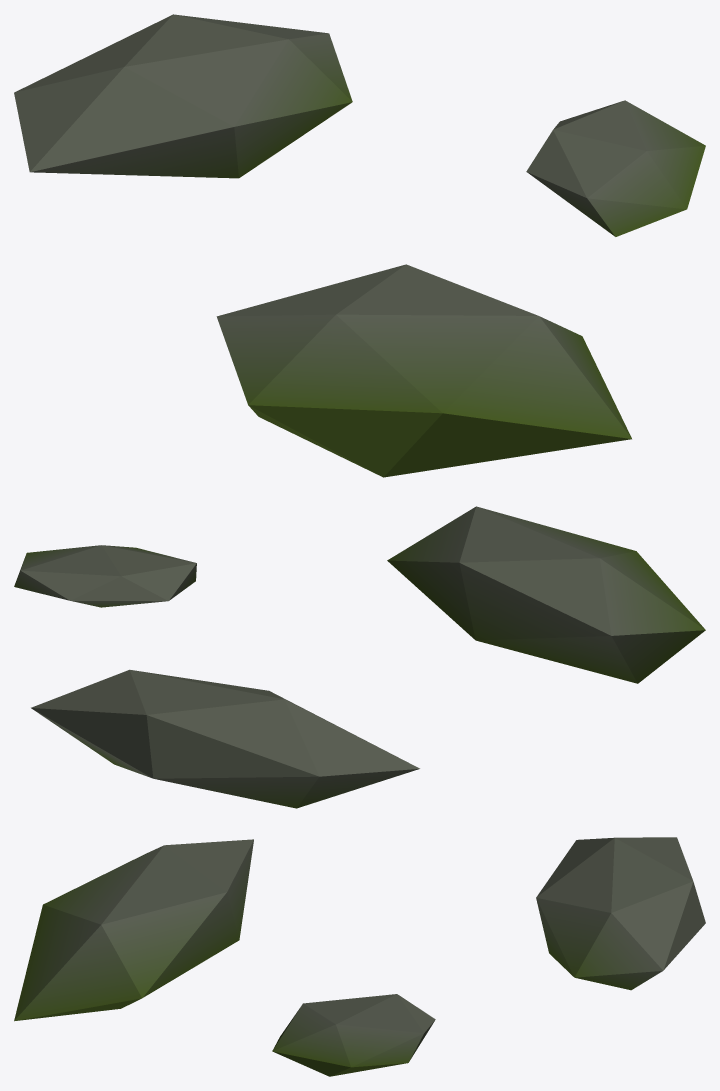
File: Rock_3.glb
3 renders of one model, top to bottom at view 1: azimuth 30°, elevation 25°; view 2: azimuth 150°, elevation 25°; view 3: azimuth 270°, elevation 25°, orthographic. The views are drawn at different scales.
Parts seen in each view (by area): view 1: Rock_3; view 2: Rock_3; view 3: Rock_3.
Part boxes in pixels (box(x1,y1,x2,y2)): Rock_3: box(14, 14, 705, 477); Rock_3: box(14, 506, 705, 808); Rock_3: box(14, 837, 705, 1076).
Bounding box in the file's own units: 1.07 × 0.2997 × 1.32.
